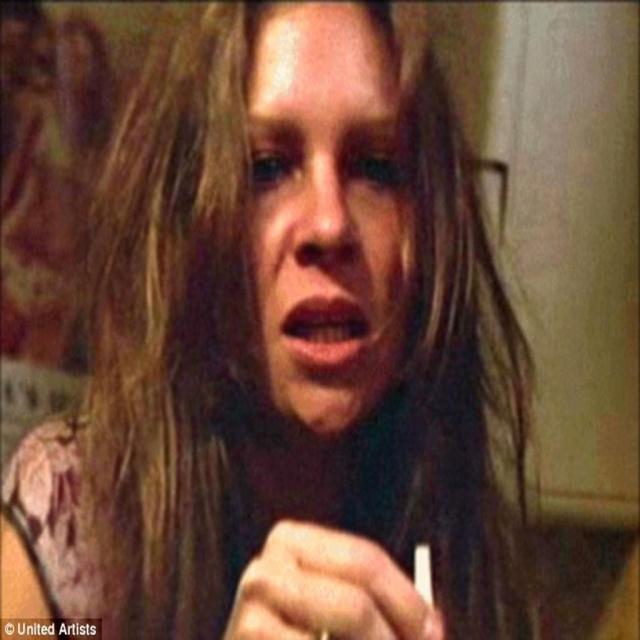smoking: (162, 0, 464, 640)
